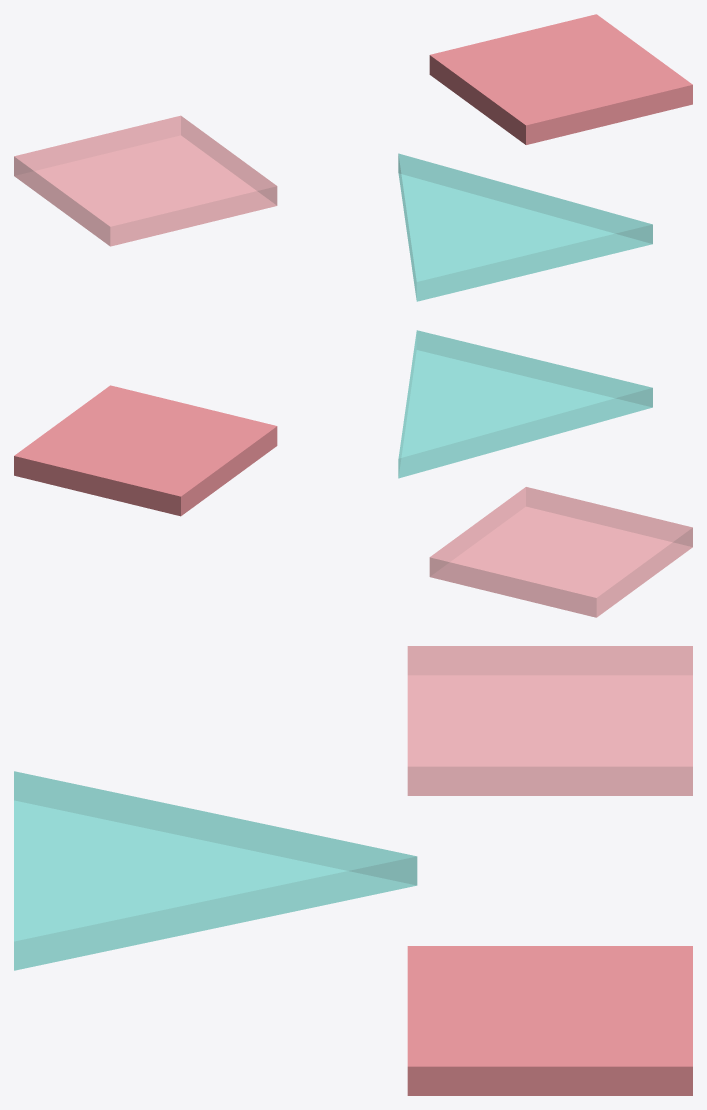
File: farfalla_step4.glb
3 views of the same model, one above another, from view 1: azimuth 30°, elevation 25°; view 2: azimuth 150°, elevation 25°; view 3: azimuth 270°, elevation 25° (orthographic). The views are drawn at different scales.
Parts seen in each view (by area): view 1: rombo.001, rombo, triangolo_isoscele_piccolo; view 2: rombo, rombo.001, triangolo_isoscele_piccolo; view 3: triangolo_isoscele_piccolo, rombo, rombo.001.
Boxes of the visible parts, <box> form: rombo.001: <box>429,14,692,144</box>; rombo: <box>14,115,277,246</box>; triangolo_isoscele_piccolo: <box>398,153,652,301</box>; rombo: <box>429,487,692,617</box>; rombo.001: <box>14,385,277,516</box>; triangolo_isoscele_piccolo: <box>398,330,652,478</box>; triangolo_isoscele_piccolo: <box>14,771,417,970</box>; rombo: <box>407,646,692,795</box>; rombo.001: <box>407,946,692,1095</box>.
Bounding box in the file's own units: 2.47 × 0.08 × 1.68.
